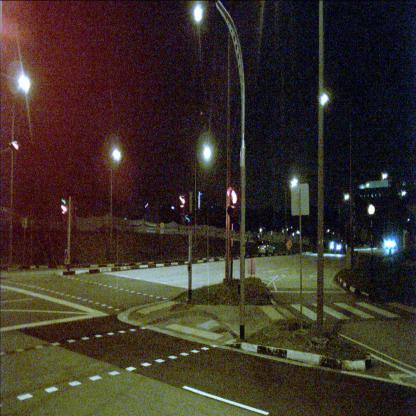vehicle-car: (257, 240, 275, 256), (331, 239, 347, 254), (385, 238, 398, 250)
